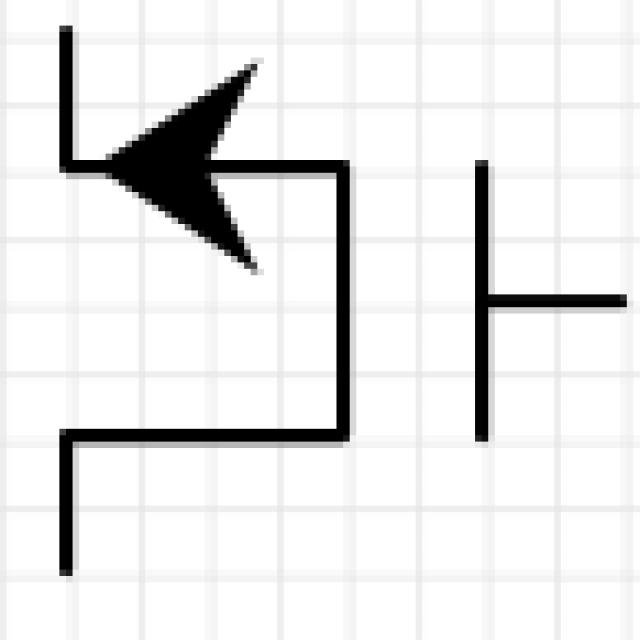nmos: (19, 26, 636, 585)
